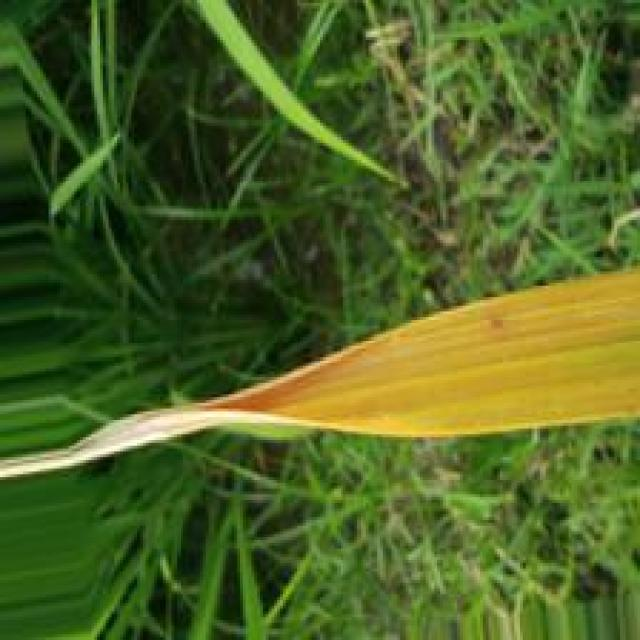Leaf_Scald: (77, 269, 640, 461)
